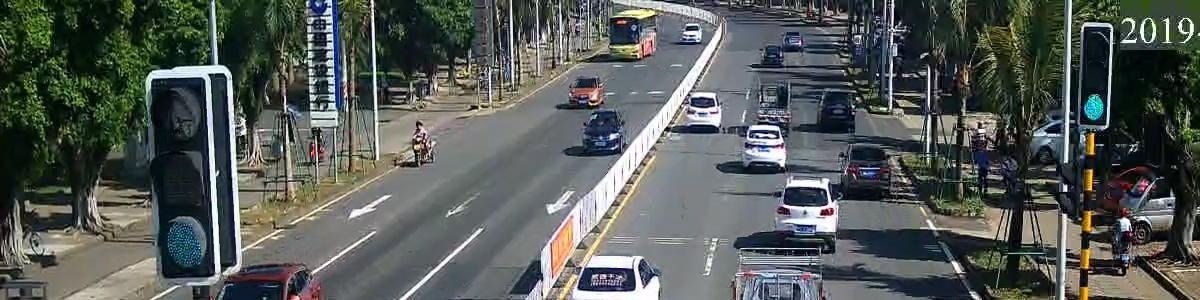green: (146, 212, 231, 279), (1071, 87, 1139, 134)
